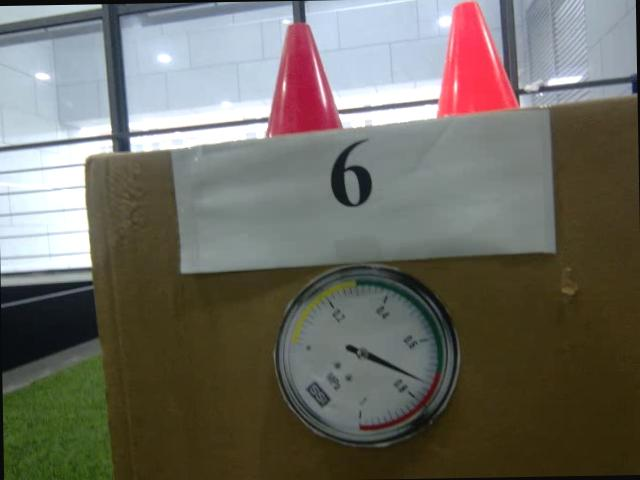6: (329, 135, 374, 208)
Dashboard: (271, 262, 461, 449)
orange_barrel: (433, 0, 520, 116)
red_barrel: (262, 21, 344, 136)
ssi: (306, 380, 331, 406)
